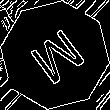M_SE: (21, 21, 89, 89)
